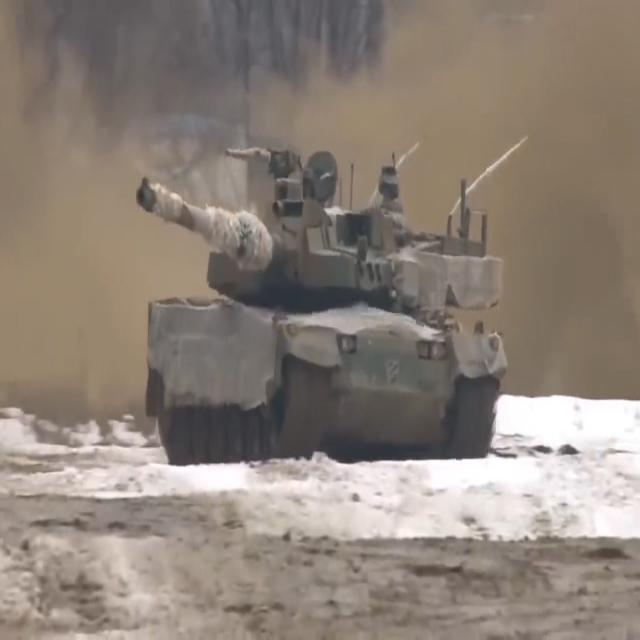korea tank: (134, 144, 512, 468)
